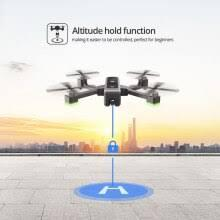drone: (45, 63, 176, 115)
